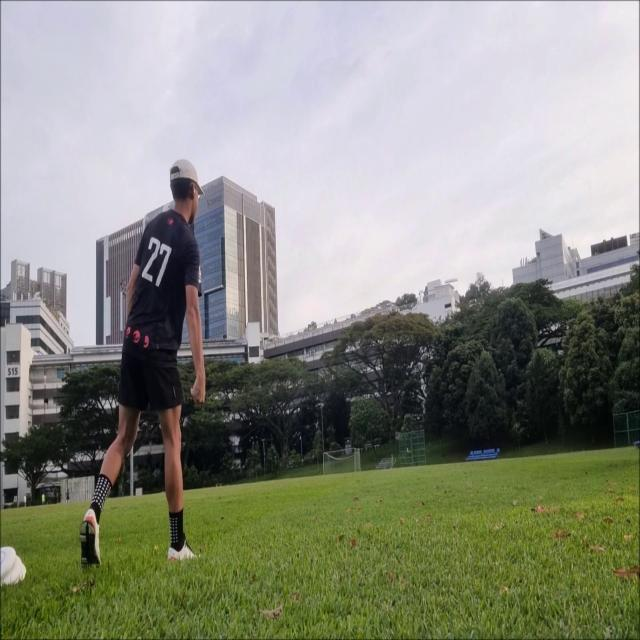disc: (443, 276, 459, 284)
